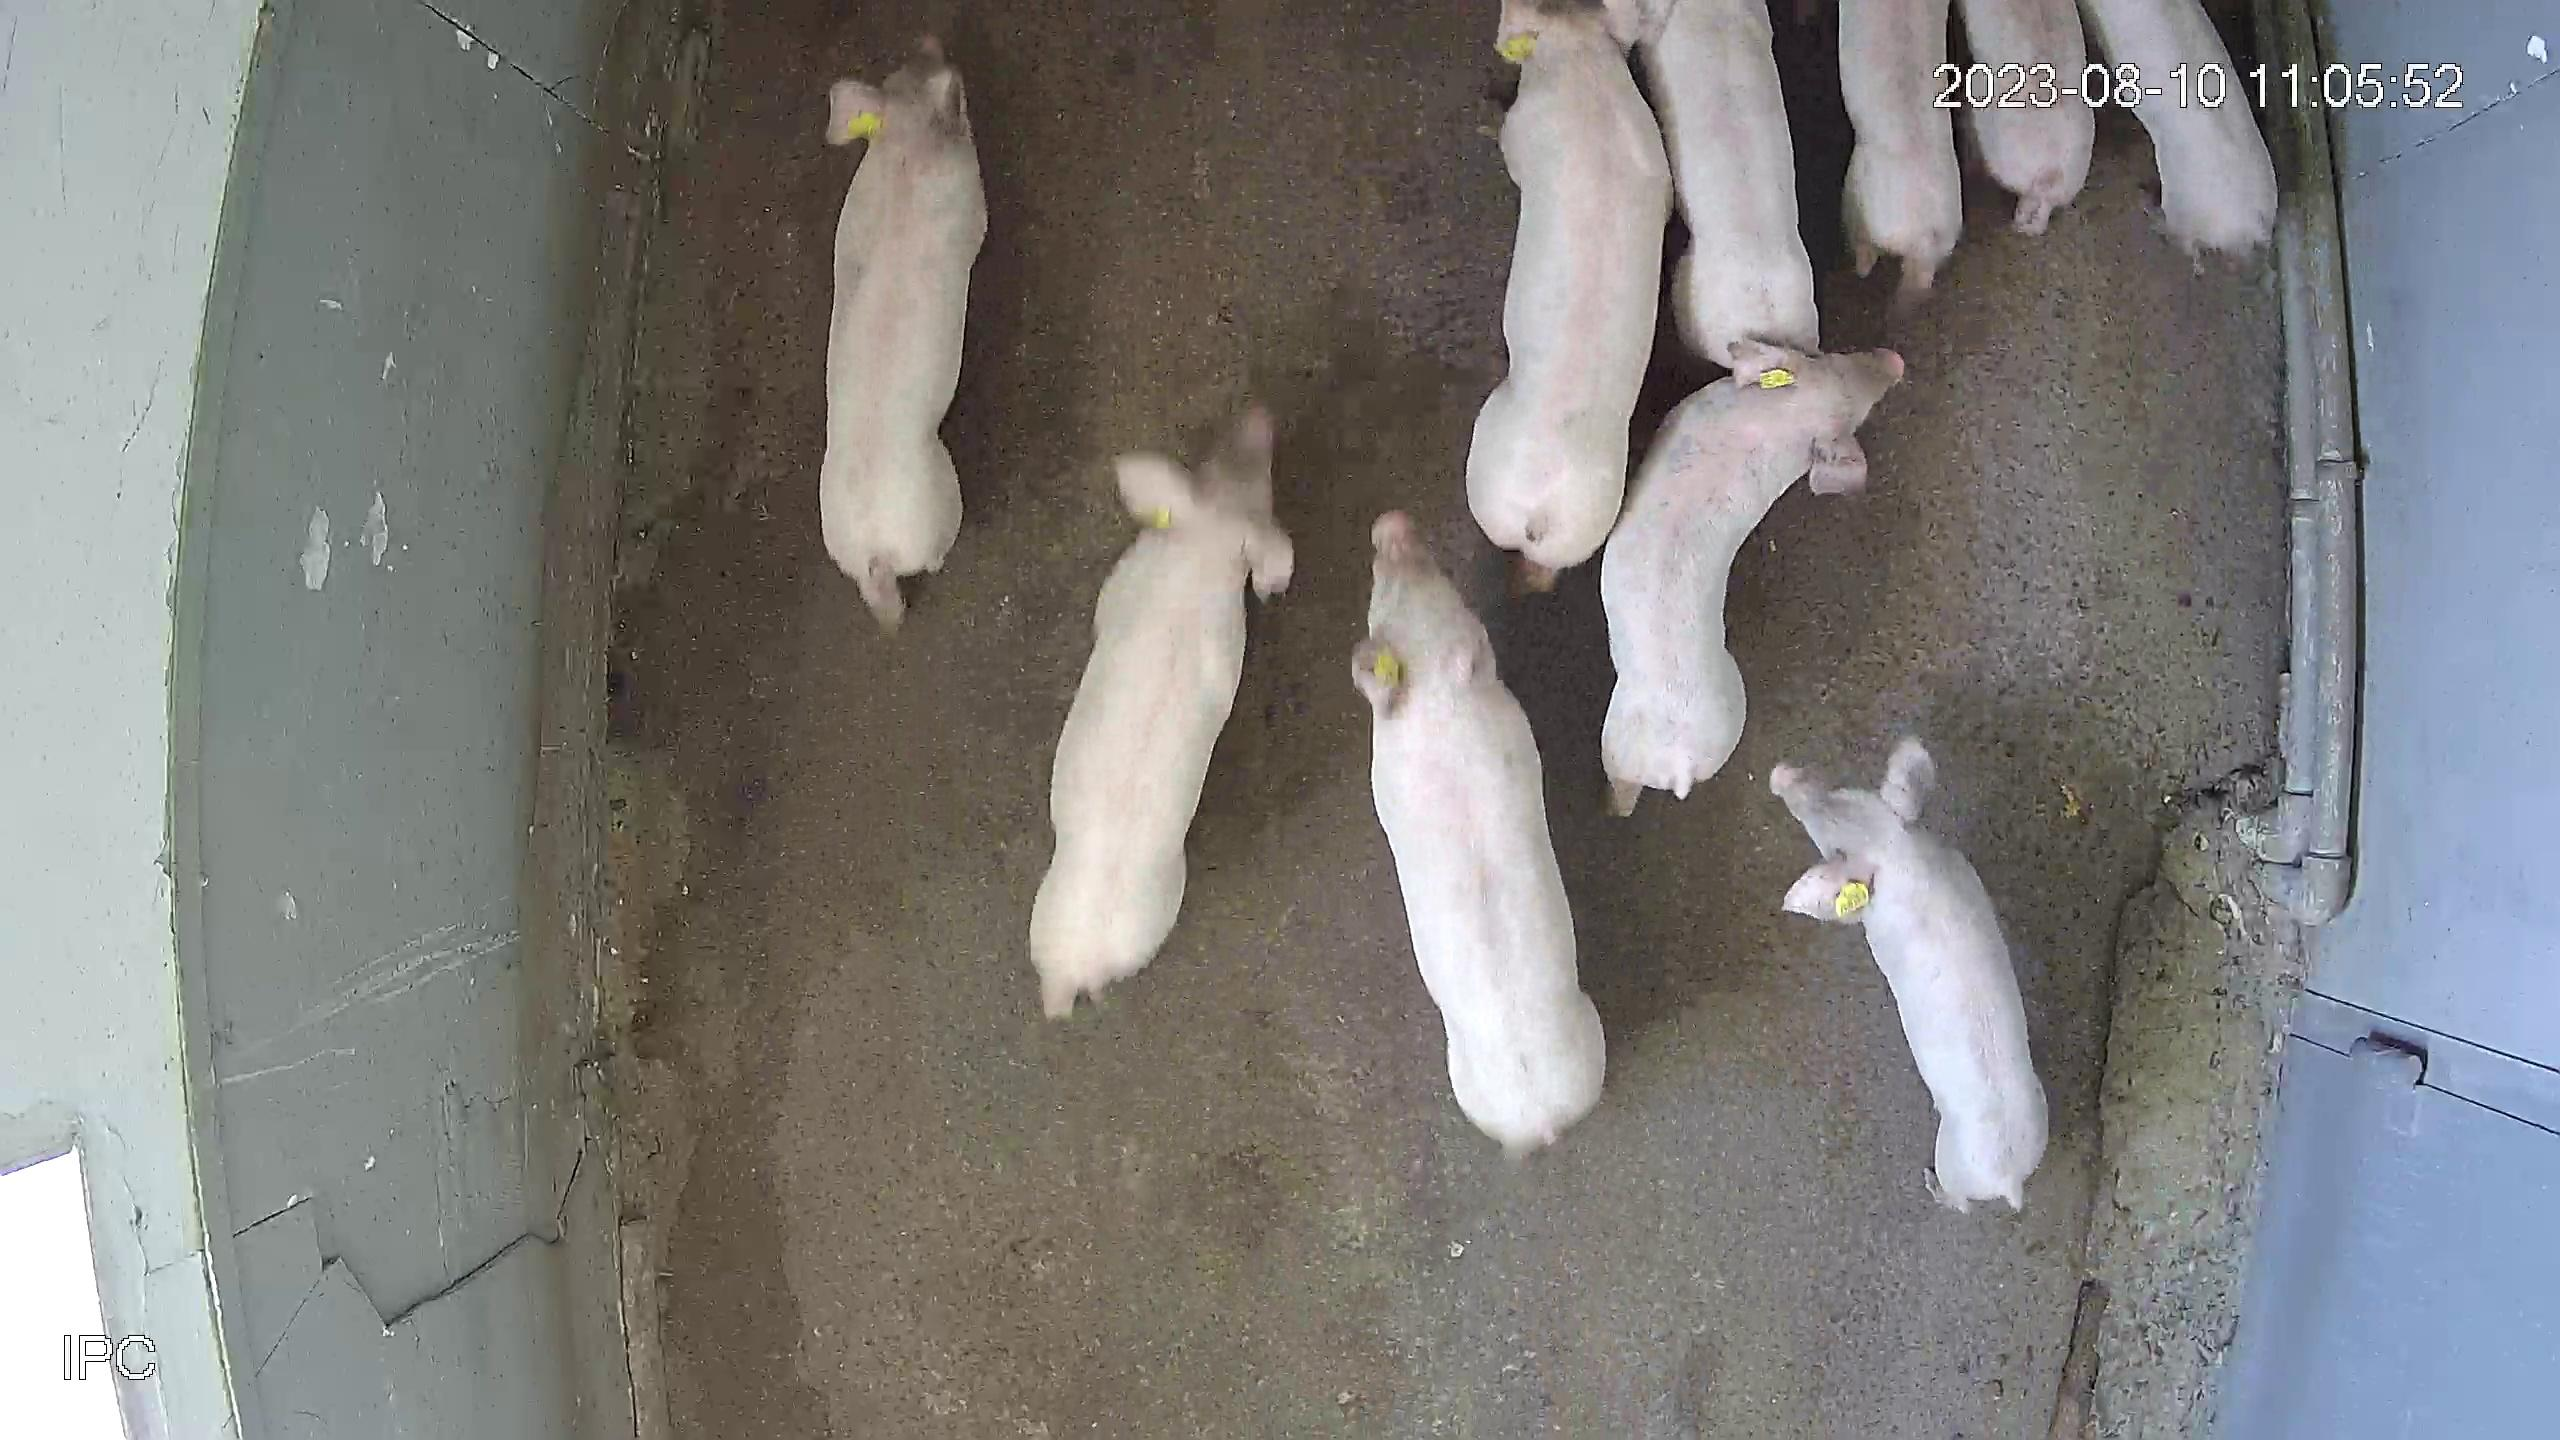Pig: (1354, 512, 1607, 1152), (1030, 401, 1292, 1016), (1604, 339, 1908, 814), (1772, 737, 2052, 1211), (1468, 0, 1674, 593), (819, 33, 986, 629), (1640, 0, 1822, 364), (2084, 0, 2280, 271), (1843, 0, 1966, 306), (1962, 0, 2099, 232)
